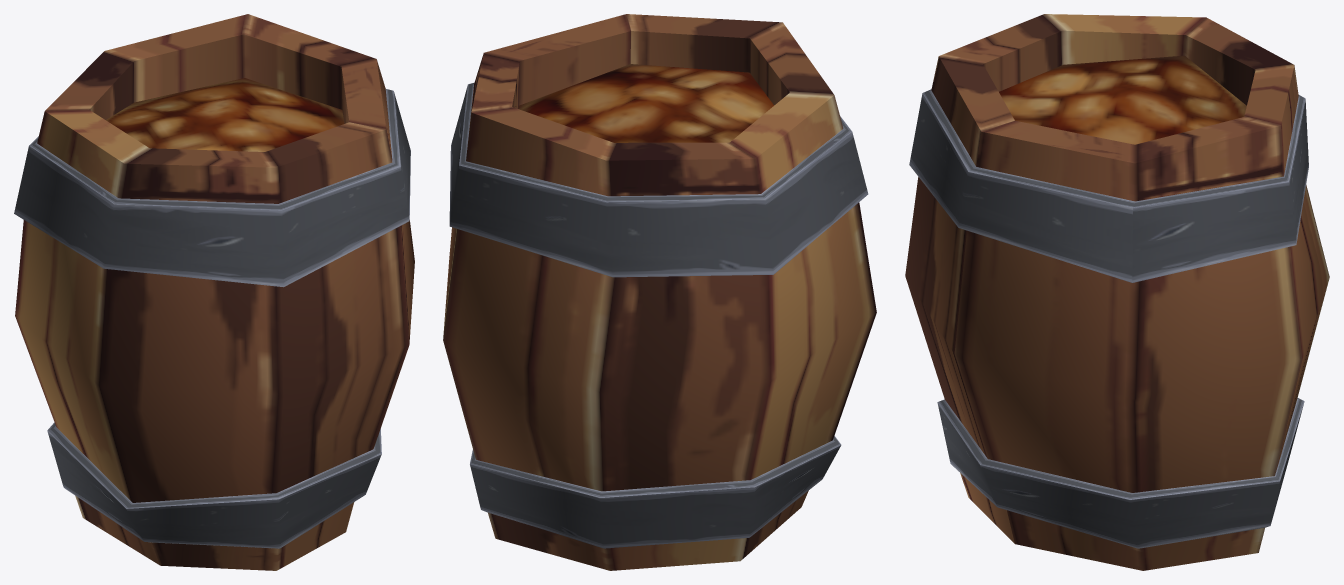
Rendered from SM_PROP_barrel_05.glb.
3 renders of one model, left to right at view 1: azimuth 30°, elevation 25°; view 2: azimuth 150°, elevation 25°; view 3: azimuth 270°, elevation 25°, orthographic. The views are drawn at different scales.
Visible parts, largest first — view 1: SM_PROP_barrel_05_EXPORT; view 2: SM_PROP_barrel_05_EXPORT; view 3: SM_PROP_barrel_05_EXPORT.
Boxes of the visible parts, bbox=[...] form: SM_PROP_barrel_05_EXPORT: bbox=[14, 14, 414, 570]; SM_PROP_barrel_05_EXPORT: bbox=[443, 14, 876, 570]; SM_PROP_barrel_05_EXPORT: bbox=[905, 14, 1329, 570].
Bounding box in the file's own units: 0.7706 × 0.8439 × 0.7486.
Materials: 3 (3 with a texture image).
